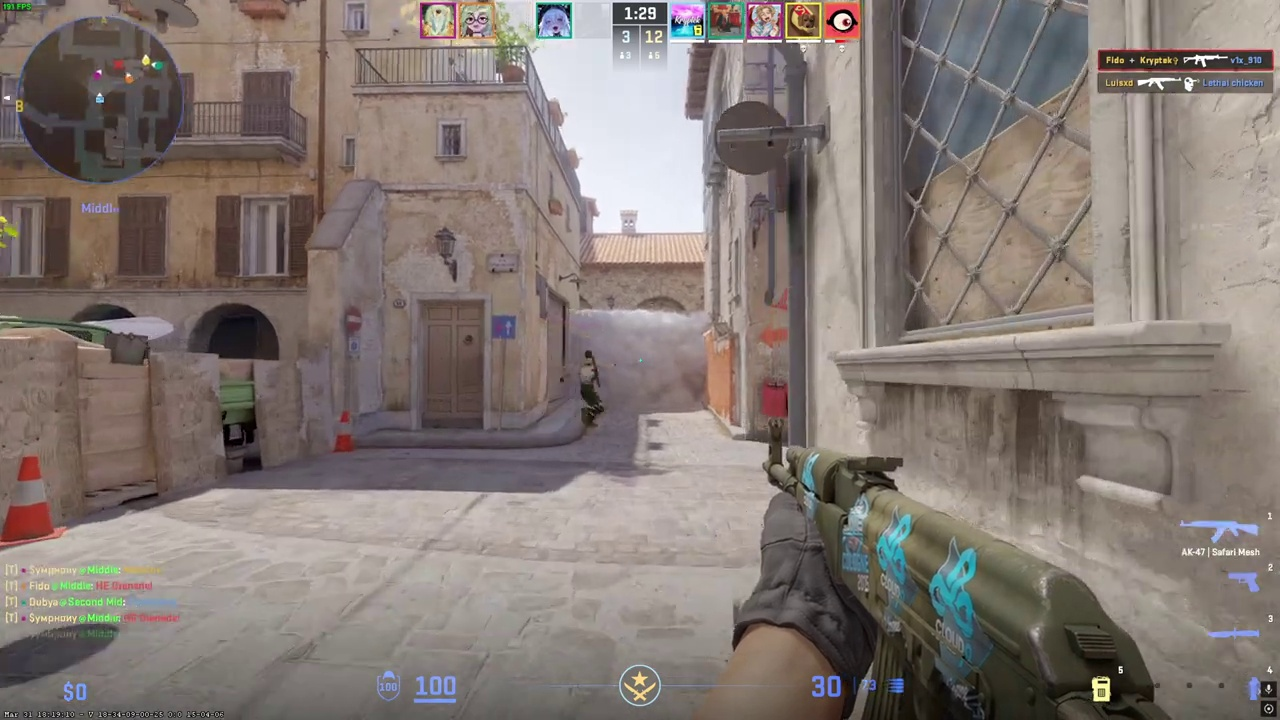Terrorist: (577, 350, 605, 427)
